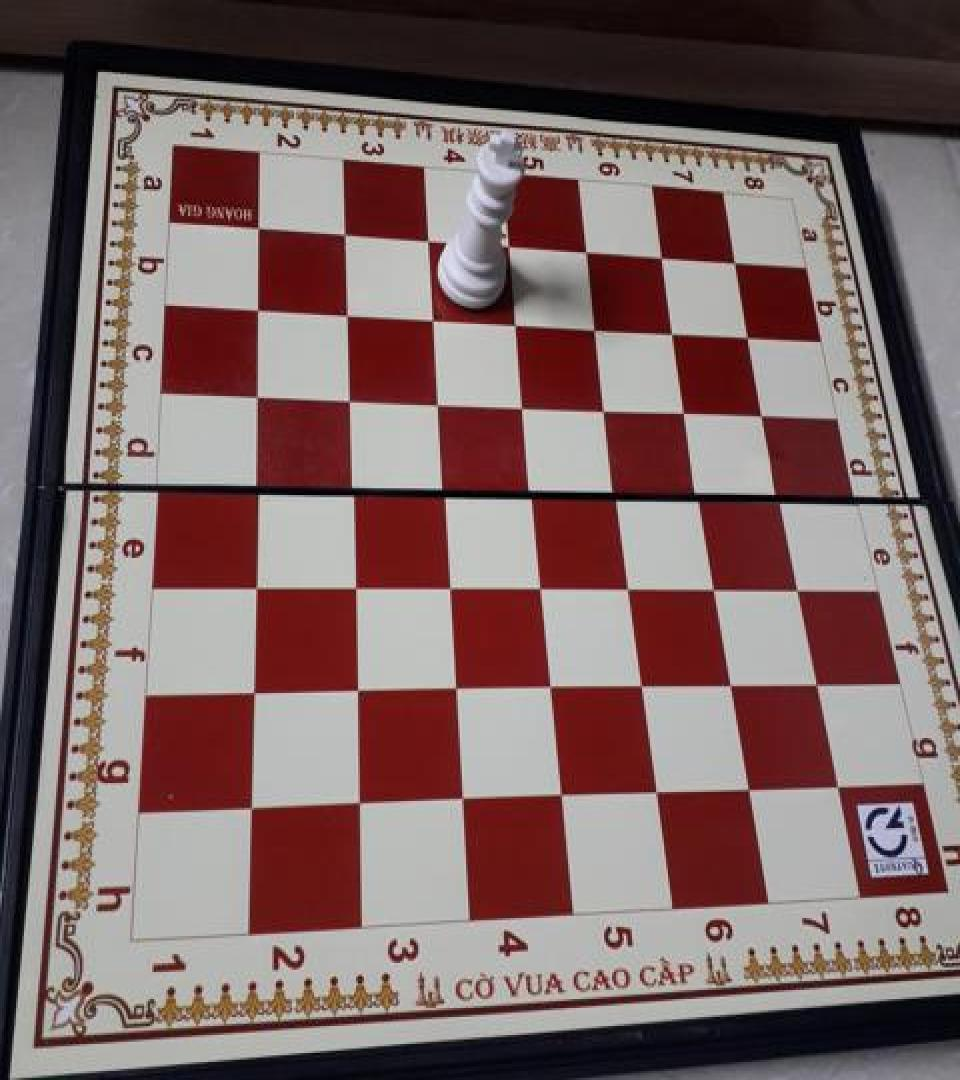xcorner: (643, 237, 677, 276), (715, 661, 749, 700), (716, 243, 750, 281), (567, 233, 601, 271), (490, 228, 524, 266), (409, 223, 443, 261), (327, 217, 361, 255), (241, 210, 275, 248), (731, 315, 765, 353), (655, 312, 689, 350), (578, 307, 612, 345), (497, 303, 531, 341), (414, 300, 448, 338), (329, 295, 363, 333), (240, 289, 274, 327), (746, 393, 780, 431), (669, 390, 703, 428), (588, 387, 622, 425), (506, 384, 540, 422), (420, 382, 454, 420), (331, 378, 365, 416), (240, 375, 274, 413), (763, 476, 797, 514), (683, 474, 717, 512), (600, 472, 634, 510), (515, 470, 549, 508), (426, 469, 460, 507), (334, 467, 368, 505), (239, 466, 273, 504), (781, 565, 815, 603), (698, 565, 732, 603), (613, 565, 647, 603), (524, 564, 558, 602), (432, 564, 466, 602), (337, 564, 371, 602), (238, 564, 272, 602), (800, 660, 834, 698), (626, 663, 660, 701), (534, 665, 568, 703), (439, 666, 473, 704), (340, 668, 374, 706), (237, 670, 271, 708), (821, 763, 855, 801), (733, 766, 767, 804), (641, 770, 675, 808), (545, 774, 579, 812), (446, 778, 480, 816), (343, 782, 377, 820), (236, 786, 270, 824)
